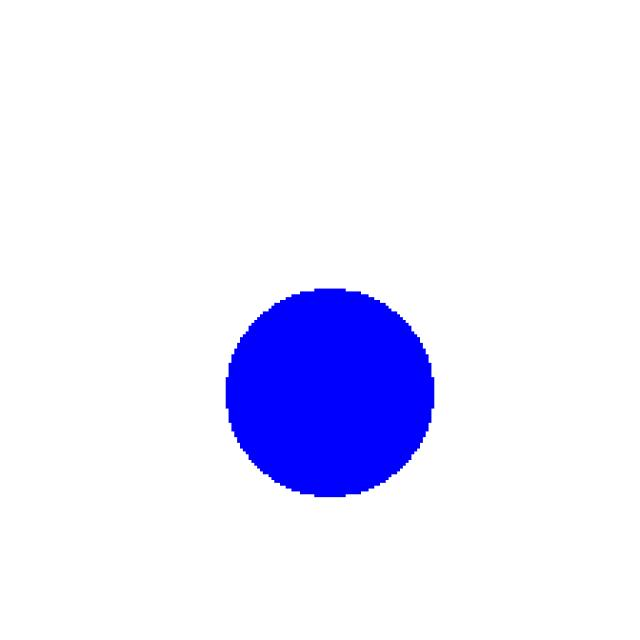Circle: (212, 272, 458, 534)
